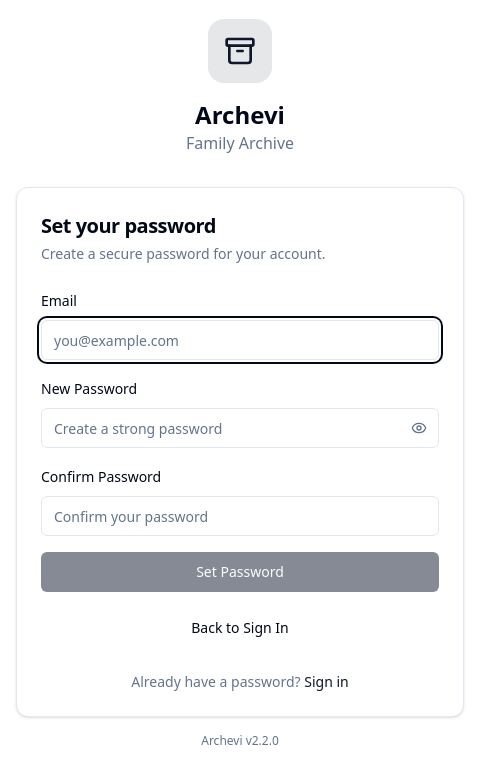
SetPasswordPage › shows password match indicator
Type "TestPass1" into the password field labelled "New Password" at {"x": 240, "y": 428}, box [41,408,439,448]
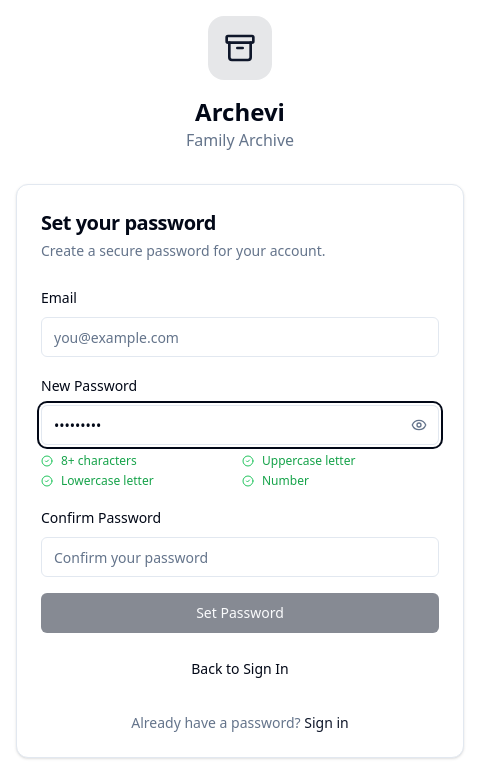
Type "TestPass1" into the password field labelled "Confirm Password" at {"x": 240, "y": 557}, box [41,537,439,577]
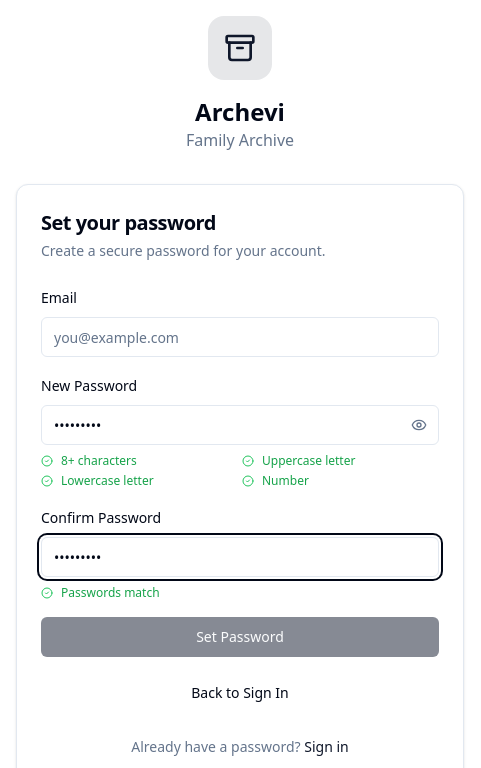
Result: the text "Passwords match" is shown at [61,585,160,601]
